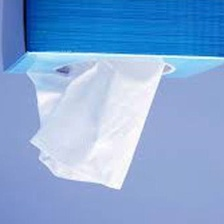book: (0, 0, 224, 83)
tissue: (21, 52, 168, 193)
